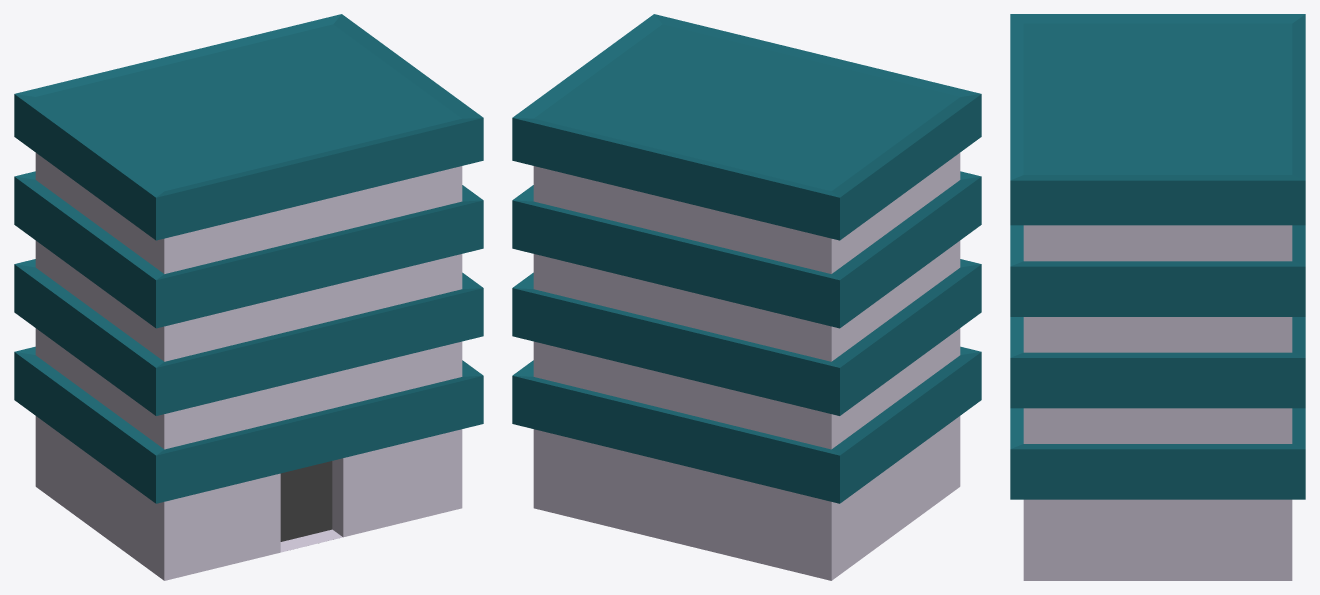
File: office.fbx
3 renders of one model, left to right at view 1: azimuth 30°, elevation 25°; view 2: azimuth 150°, elevation 25°; view 3: azimuth 270°, elevation 25°, orthographic. The views are drawn at different scales.
Parts seen in each view (by area): view 1: office; view 2: office; view 3: office.
Boxes of the visible parts, x1=… form: office: x1=14, y1=14, x2=483, y2=580; office: x1=512, y1=14, x2=981, y2=580; office: x1=1010, y1=14, x2=1305, y2=580.
Bounding box in the file's own units: 17.6 × 20.1 × 13.2.
